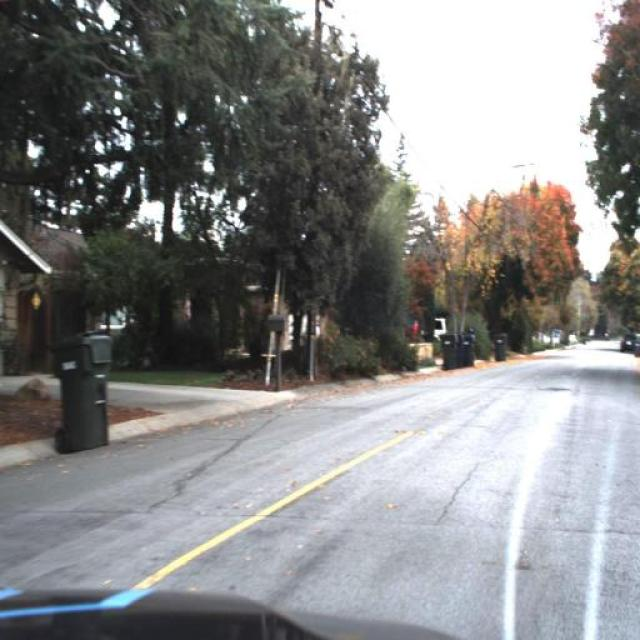car: (423, 314, 452, 344)
